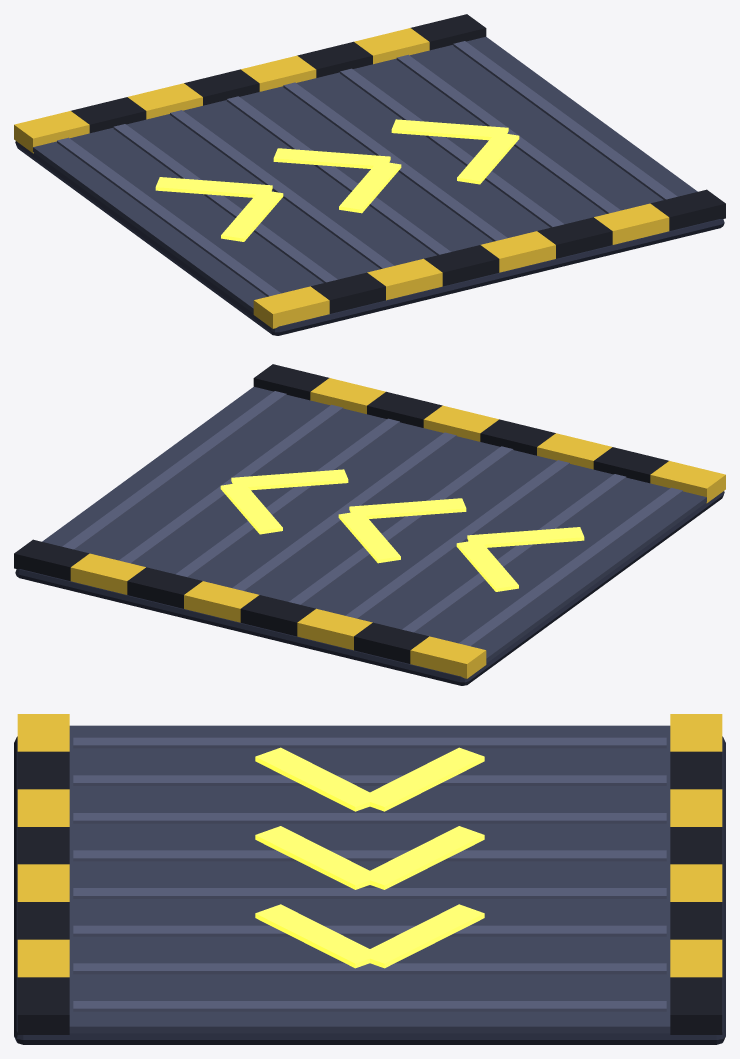
Rendered from terrain_conveyor.glb.
3 views of the same model, one above another, from view 1: azimuth 30°, elevation 25°; view 2: azimuth 150°, elevation 25°; view 3: azimuth 270°, elevation 25° (orthographic). The views are drawn at different scales.
Visible parts, largest first — view 1: terrain_conveyor; view 2: terrain_conveyor; view 3: terrain_conveyor.
Part boxes in pixels (x1,y1,x2,y2): terrain_conveyor: (14, 14, 725, 335); terrain_conveyor: (14, 364, 725, 685); terrain_conveyor: (14, 714, 725, 1044).
Size of the model in its own units: 1.92 by 0.1 by 1.92.
